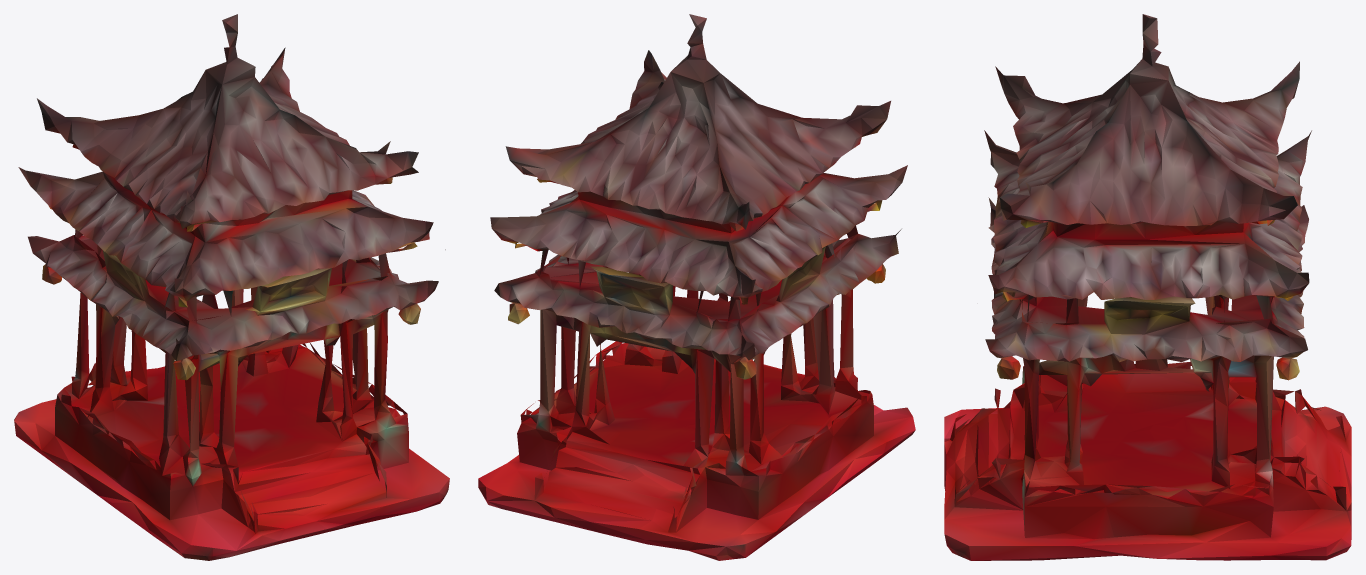
The model's file is bq_library_pagoda.vc.glb.
3 views of the same model, side by side, from view 1: azimuth 30°, elevation 25°; view 2: azimuth 150°, elevation 25°; view 3: azimuth 270°, elevation 25° (orthographic). The views are drawn at different scales.
Parts seen in each view (by area): view 1: bq_library_pagoda; view 2: bq_library_pagoda; view 3: bq_library_pagoda.
Part boxes in pixels (bbox=[...]): bq_library_pagoda: bbox=[14, 14, 449, 560]; bq_library_pagoda: bbox=[478, 14, 915, 560]; bq_library_pagoda: bbox=[944, 14, 1351, 560].
Size of the model in its own units: 1.19 by 1.89 by 1.46.
